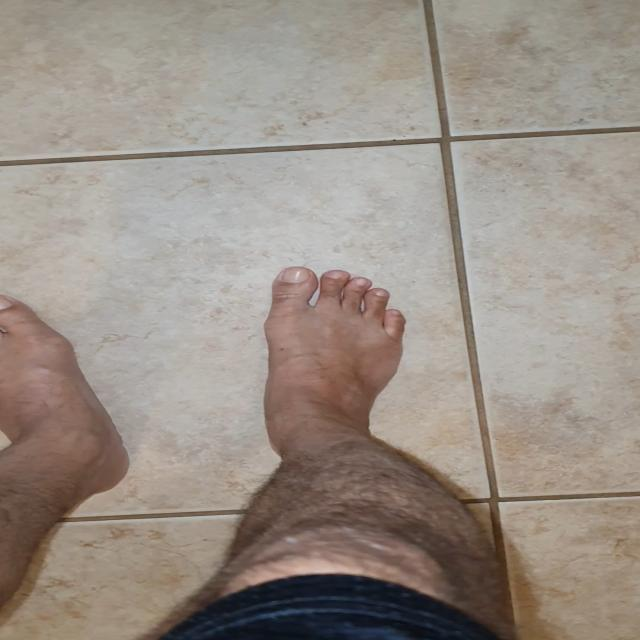no-boots: (261, 264, 414, 460), (0, 286, 135, 489)
